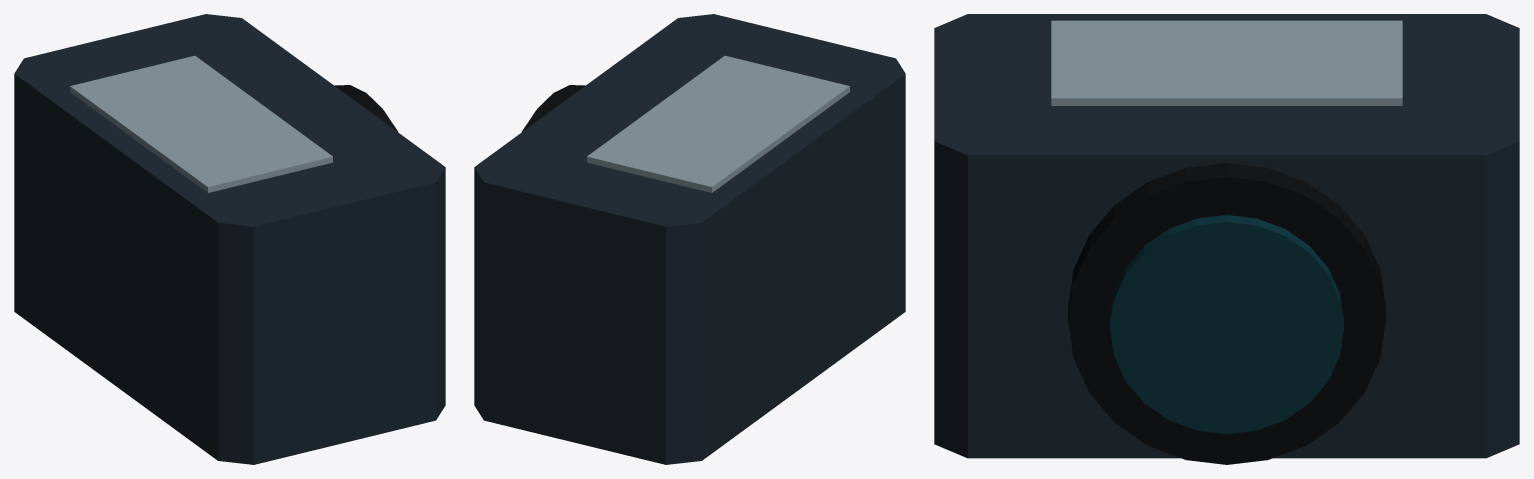
Rendered from camera_shell.dae.
3 renders of one model, left to right at view 1: azimuth 30°, elevation 25°; view 2: azimuth 150°, elevation 25°; view 3: azimuth 270°, elevation 25°, orthographic. The views are drawn at different scales.
Visible parts, largest first — view 1: model; view 2: model; view 3: model.
Part boxes in pixels (x1,y1,x2,y2): model: (14,14,445,464); model: (474,14,905,464); model: (934,14,1519,464).
Size of the model in its own units: 0.046 by 0.07 by 0.041.
